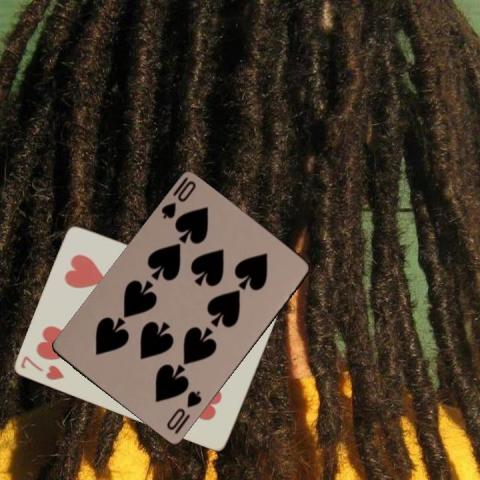10s: (163, 388, 204, 433), (158, 178, 197, 221)
7h: (18, 353, 66, 382)
